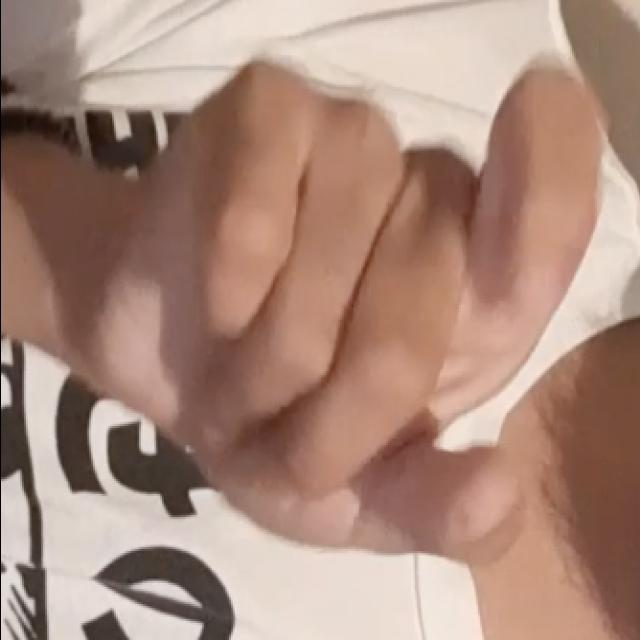Q: (72, 59, 598, 572)
